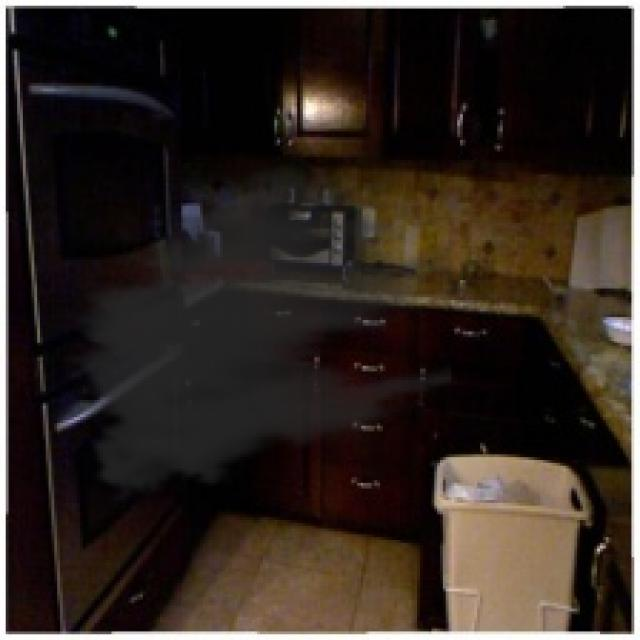smoke: (57, 154, 452, 512)
